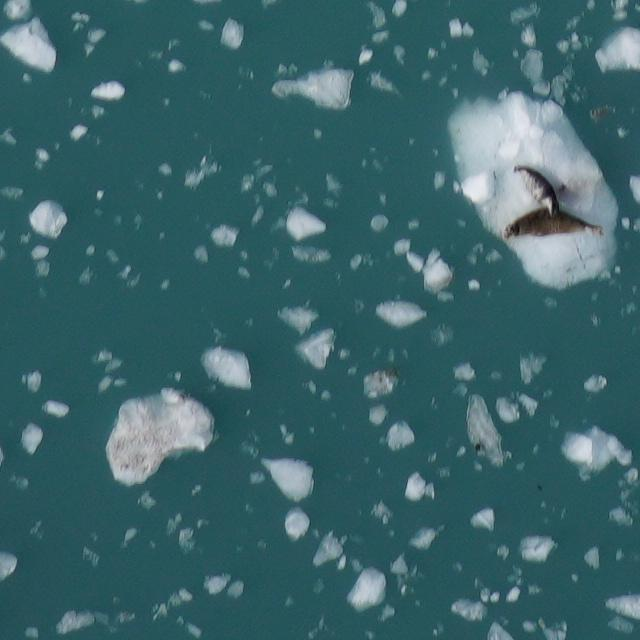seal: (503, 204, 604, 240), (510, 157, 565, 215)
